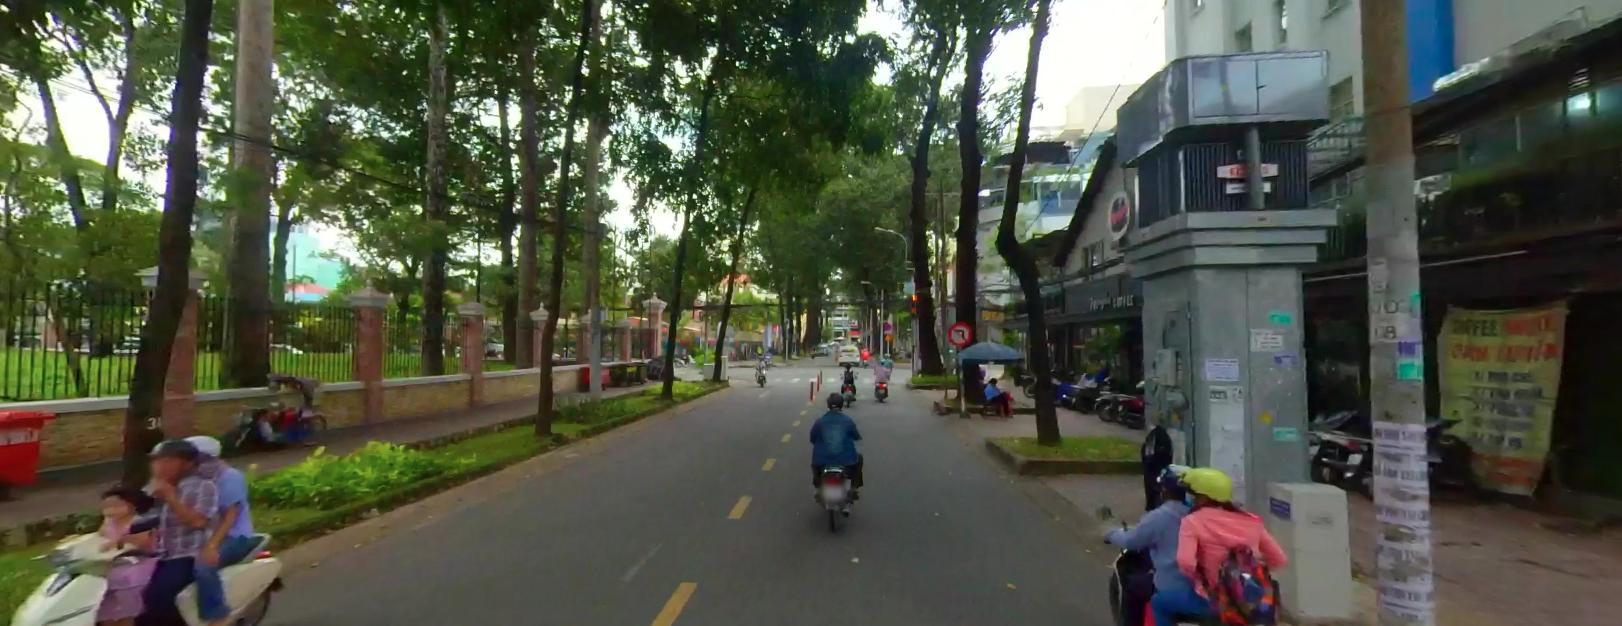Cam dung va do: (883, 322, 890, 329)
Cam re: (948, 320, 972, 345)
Nguy hiem: (883, 331, 891, 339)
